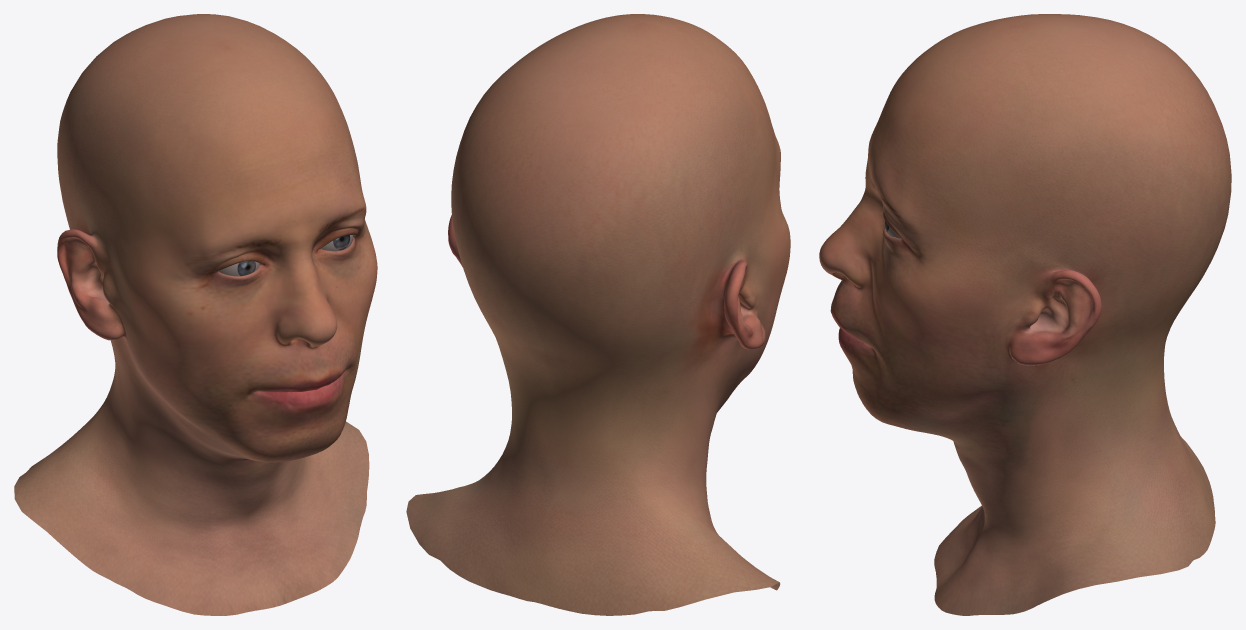
3 views of the same model, side by side, from view 1: azimuth 30°, elevation 25°; view 2: azimuth 150°, elevation 25°; view 3: azimuth 270°, elevation 25° (orthographic). The views are drawn at different scales.
Visible parts, largest first — view 1: UnchangedNativeHead; view 2: UnchangedNativeHead; view 3: UnchangedNativeHead.
Boxes of the visible parts, box(x1,y1,x2,y2) form: UnchangedNativeHead: box(14, 14, 377, 615); UnchangedNativeHead: box(406, 14, 790, 615); UnchangedNativeHead: box(819, 14, 1231, 615).
Bounding box in the file's own units: 1.23 × 1.88 × 1.26.
3 materials, 3 textured.
